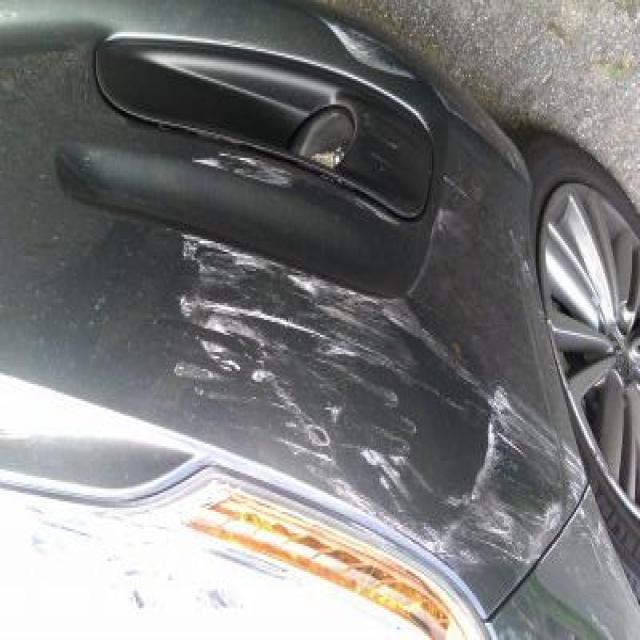scratch: (133, 222, 604, 610), (169, 140, 356, 210)
